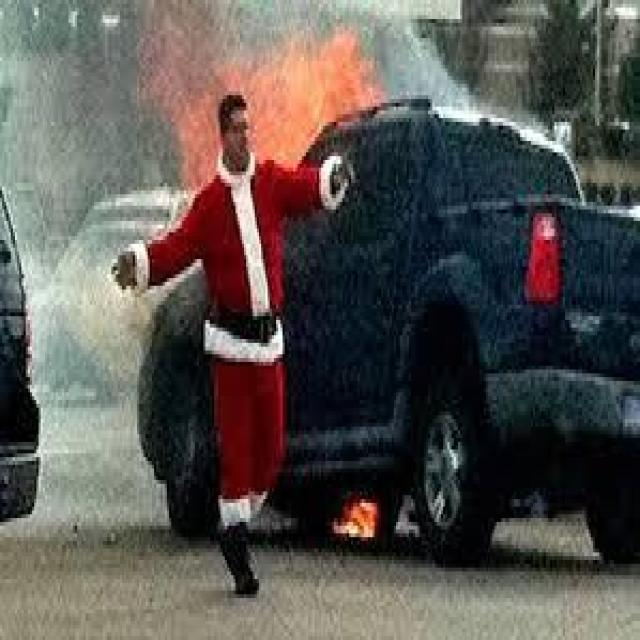fire: (184, 49, 390, 164), (329, 464, 385, 549)
